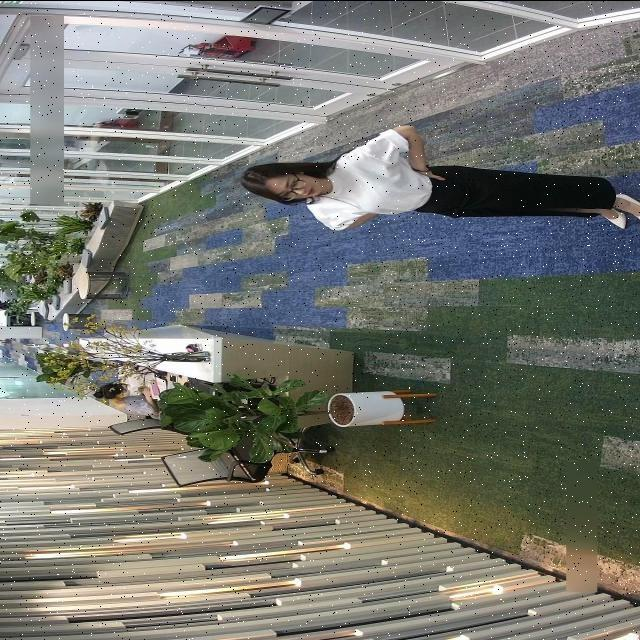no_gloves: (245, 163, 272, 190)
